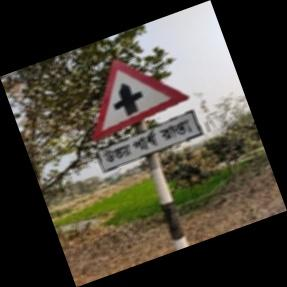Crossroad: (89, 58, 200, 176)
